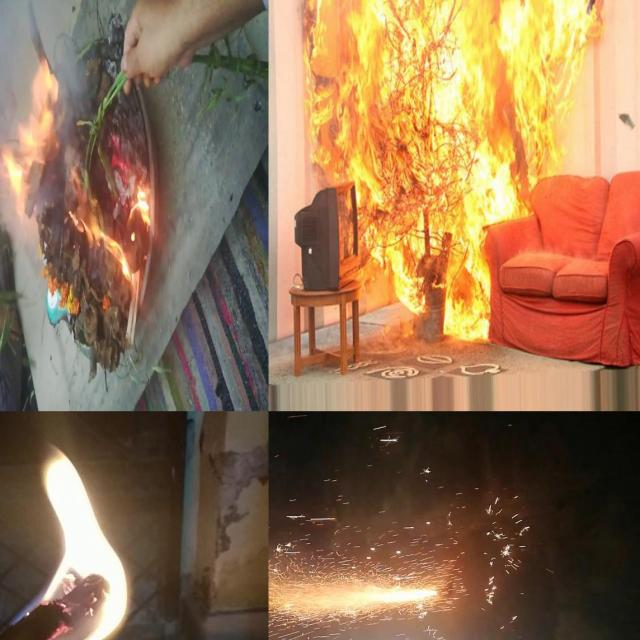fire: (298, 0, 491, 337), (21, 411, 138, 640), (492, 0, 606, 210), (14, 153, 84, 287), (268, 437, 308, 640), (0, 334, 6, 412)
smoke: (32, 0, 118, 153), (86, 157, 118, 380), (31, 288, 85, 354)
